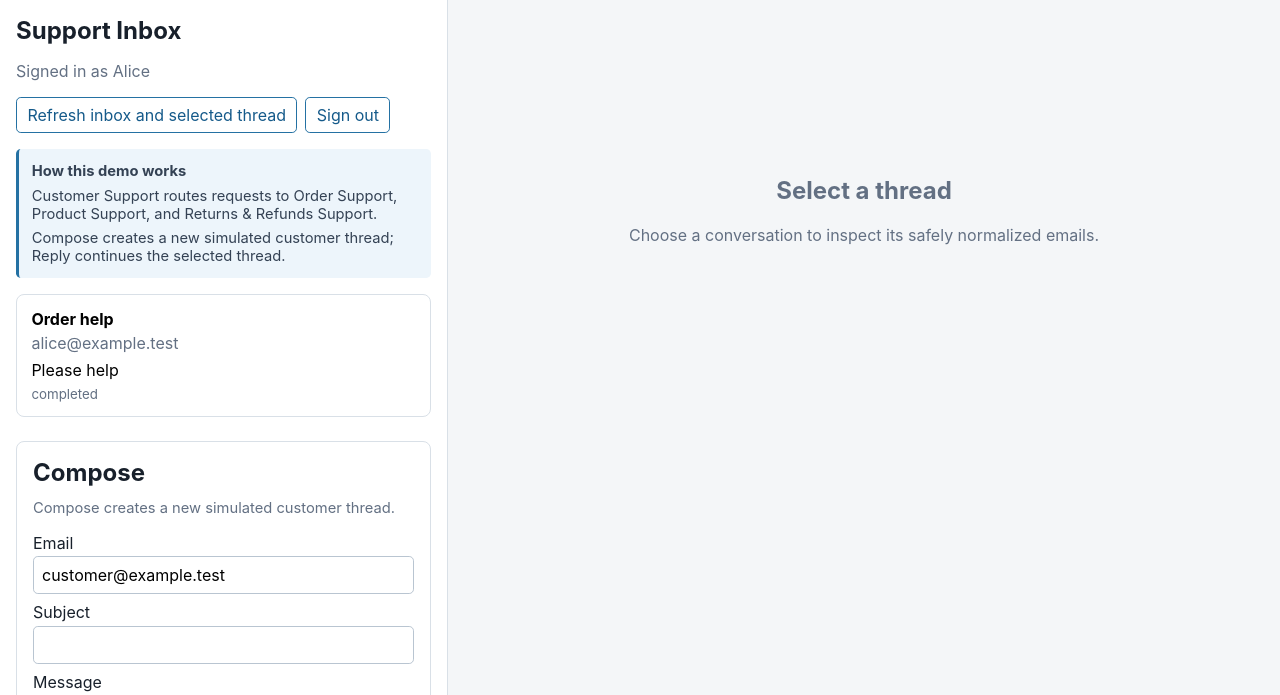
it: Support Inbox › logs out and clears the in-memory session state
Expected: the text "Order help" is shown, top-left (31, 309), bottom-right (114, 329)
Click the button "Sign out" at {"x": 348, "y": 115}, box top-left (306, 97), bottom-right (390, 133)
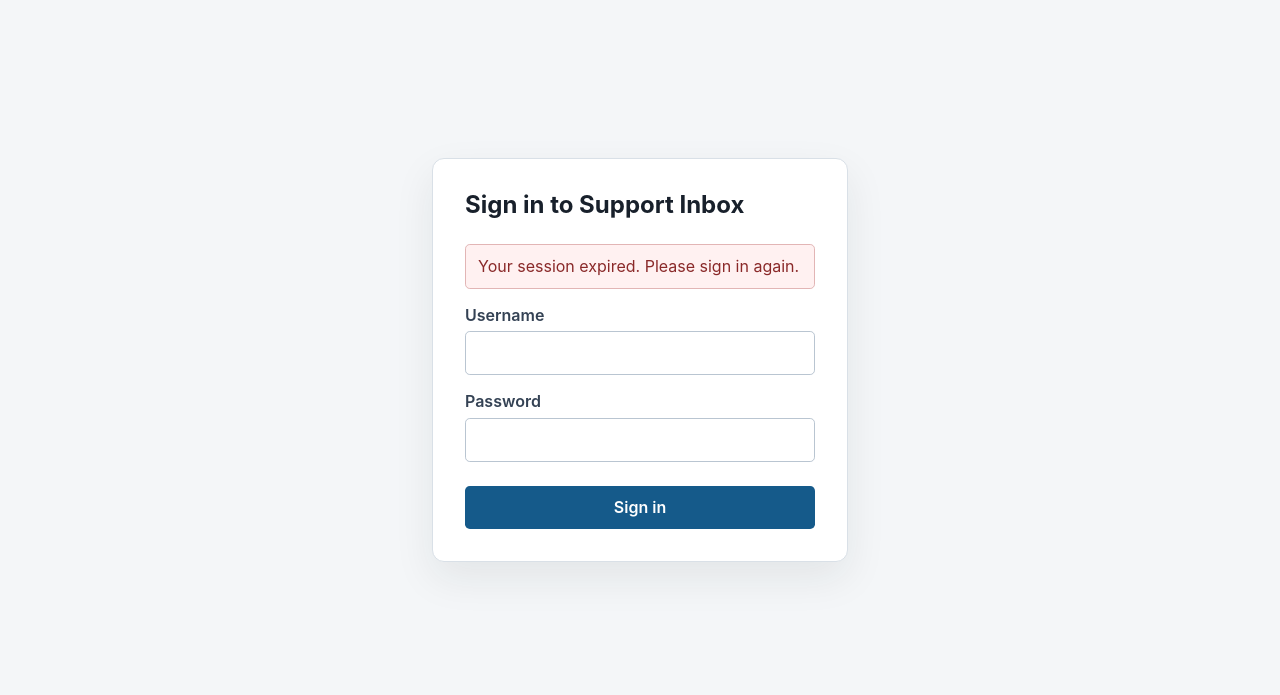
Expected: the heading "Sign in to Support Inbox" is shown, top-left (465, 190), bottom-right (744, 220)
Expected: the button "Order help" is gone
